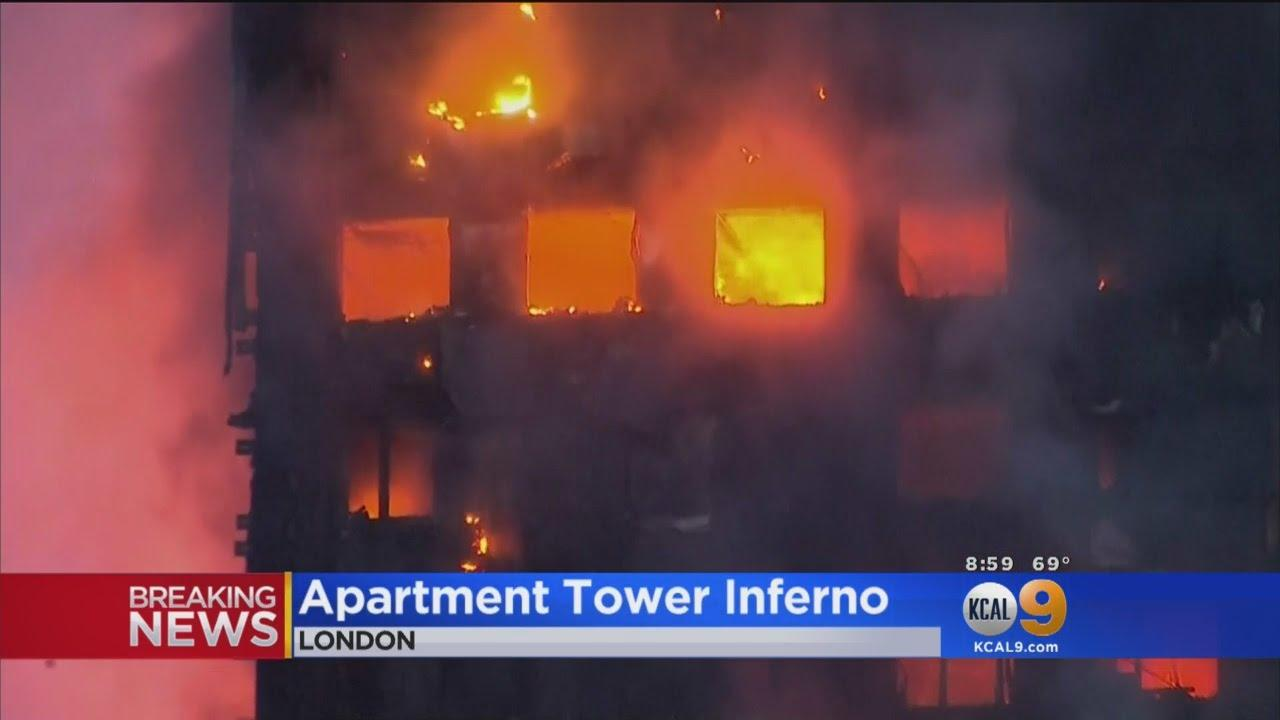Fire: (719, 207, 831, 314), (423, 56, 560, 133), (447, 505, 499, 582)
